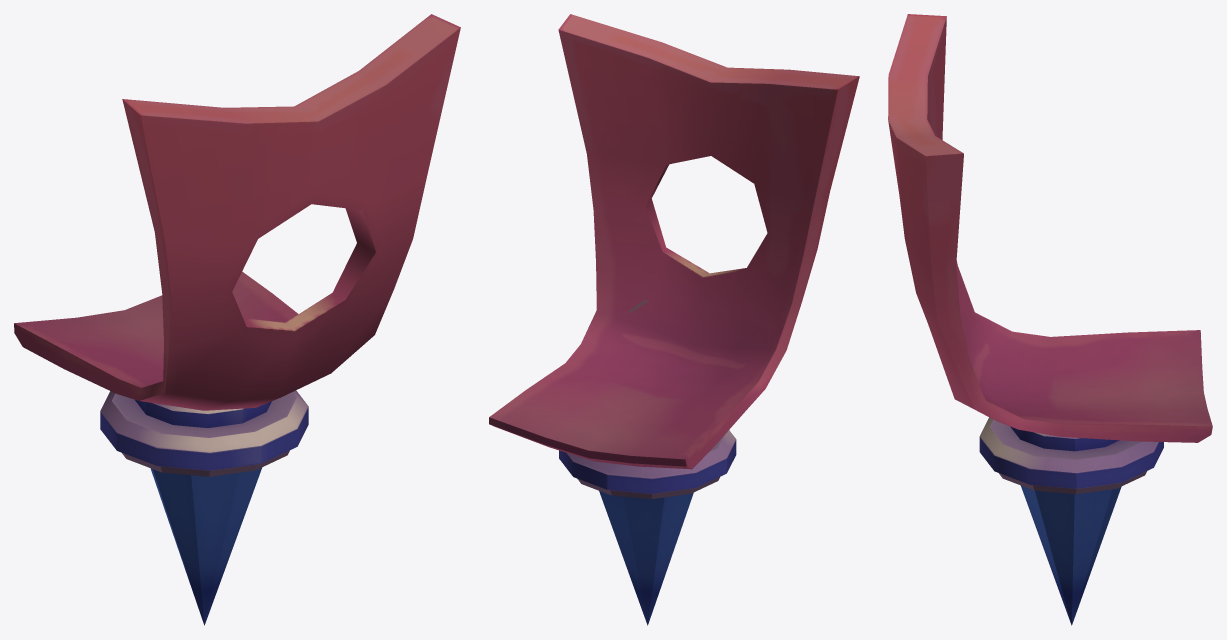
The model's file is Chair_mesh.fbx.
The picture shows the model from 3 angles, left to right: view 1: azimuth 30°, elevation 25°; view 2: azimuth 150°, elevation 25°; view 3: azimuth 270°, elevation 25°; orthographic projection. The views are drawn at different scales.
Parts seen in each view (by area): view 1: polySurface348; view 2: polySurface348; view 3: polySurface348.
Boxes of the visible parts, x1,y1,x2,y2 form: polySurface348: (14, 14, 460, 625); polySurface348: (489, 14, 859, 625); polySurface348: (888, 14, 1212, 625).
Bounding box in the file's own units: 3.1 × 5.54 × 2.99.
